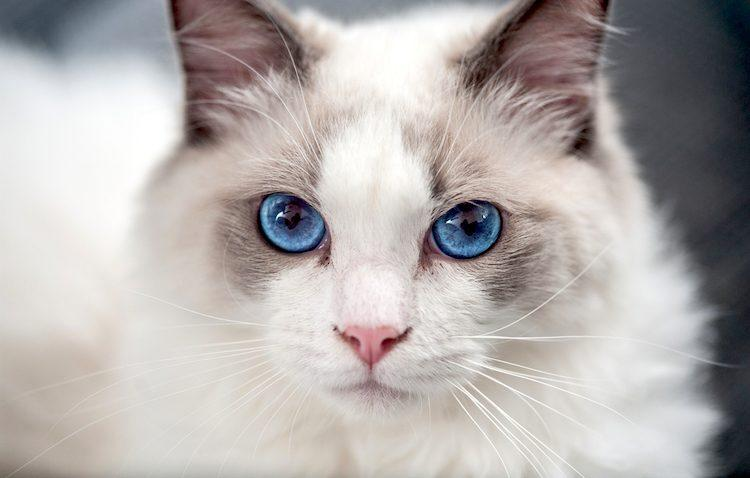ragdoll: (155, 1, 624, 431)
